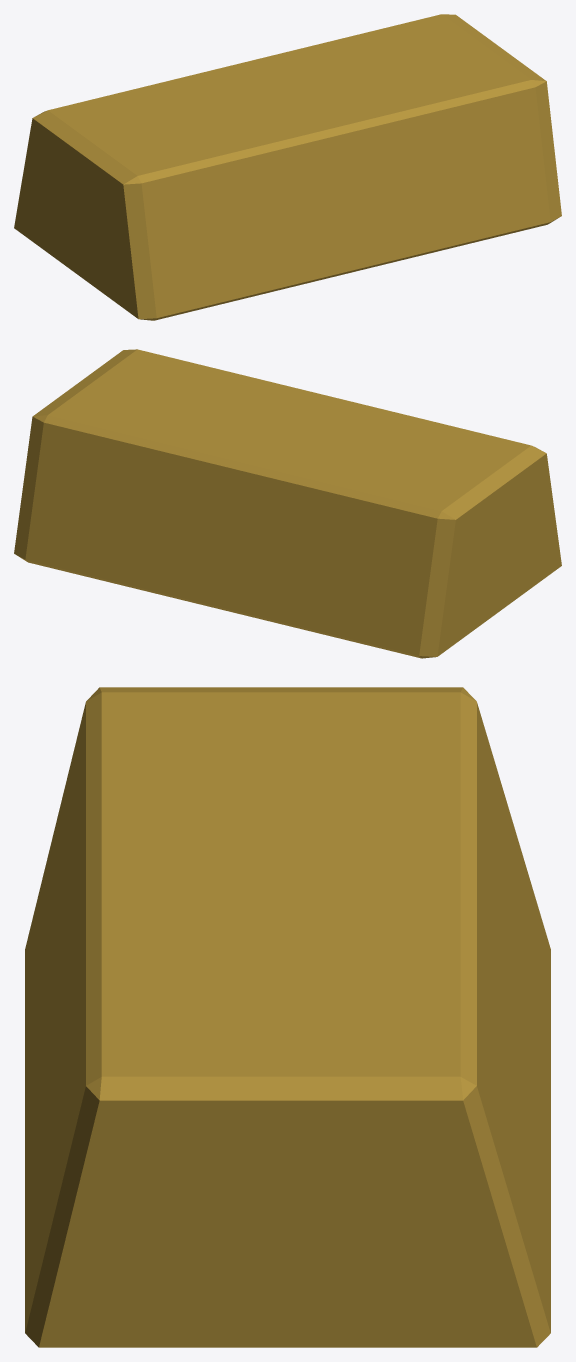
Rendered from золото.fbx.
The picture shows the model from 3 angles, top to bottom: view 1: azimuth 30°, elevation 25°; view 2: azimuth 150°, elevation 25°; view 3: azimuth 270°, elevation 25°; orthographic projection. The views are drawn at different scales.
Visible parts, largest first — view 1: Cube.019; view 2: Cube.019; view 3: Cube.019.
Part boxes in pixels (x1,y1,x2,y2): Cube.019: [14, 14, 561, 320]; Cube.019: [14, 349, 561, 658]; Cube.019: [25, 687, 550, 1347].
Bounding box in the file's own units: 154 × 46.27 × 82.94.
